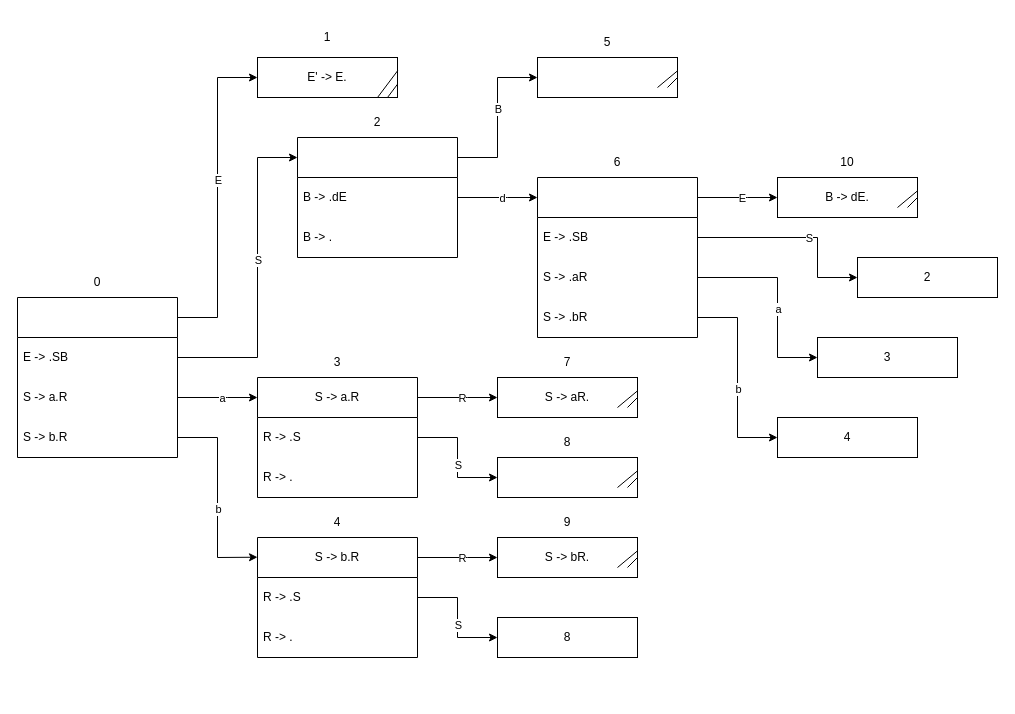
Image size: 1015x714. Some labels were removed from this diagram. The box of each missing label's shape, as (x1, y1, x2, y2) in pixels:
B -> d.E: (536, 176, 698, 338)
E -> S.B: (296, 136, 458, 258)
E -> SB.: (536, 56, 678, 98)
E' -> .E: (16, 296, 178, 458)
R -> S.: (496, 456, 638, 498)
